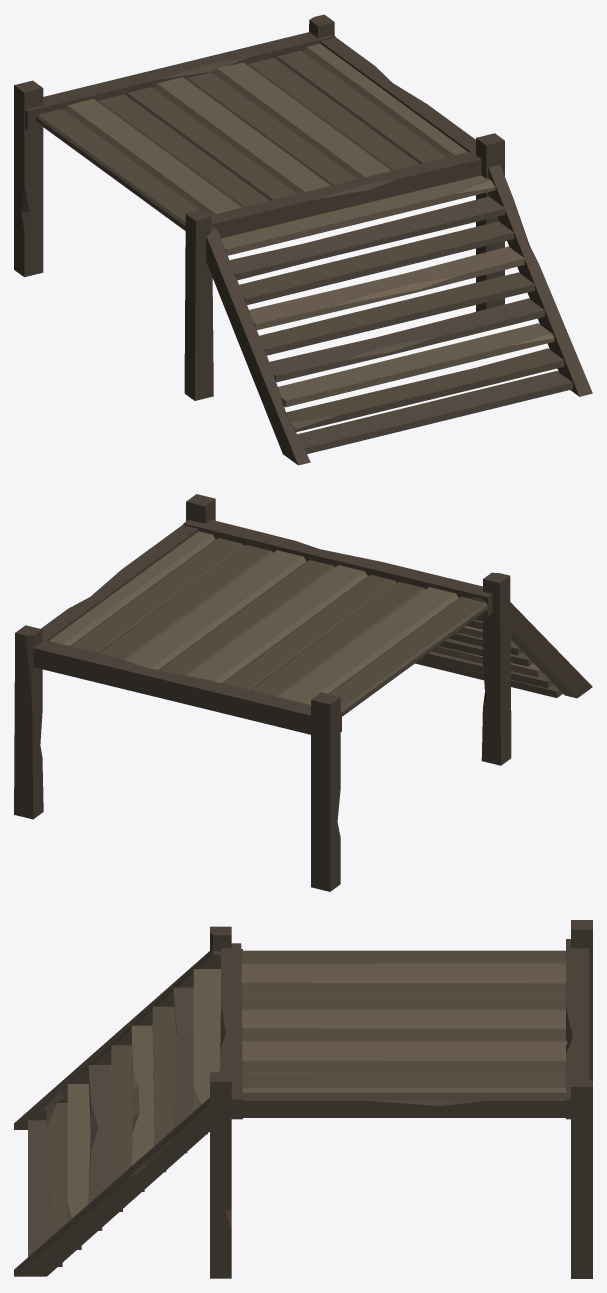
The model's file is SM_Bld_House_Stairs_03.fbx.
3 views of the same model, one above another, from view 1: azimuth 30°, elevation 25°; view 2: azimuth 150°, elevation 25°; view 3: azimuth 270°, elevation 25° (orthographic). The views are drawn at different scales.
Visible parts, largest first — view 1: SM_Bld_House_Stairs_03; view 2: SM_Bld_House_Stairs_03; view 3: SM_Bld_House_Stairs_03.
Part boxes in pixels (x1,y1,x2,y2): SM_Bld_House_Stairs_03: (14, 14, 592, 465); SM_Bld_House_Stairs_03: (14, 494, 592, 891); SM_Bld_House_Stairs_03: (14, 920, 592, 1278).
Size of the model in its own units: 260 by 147 by 393.
